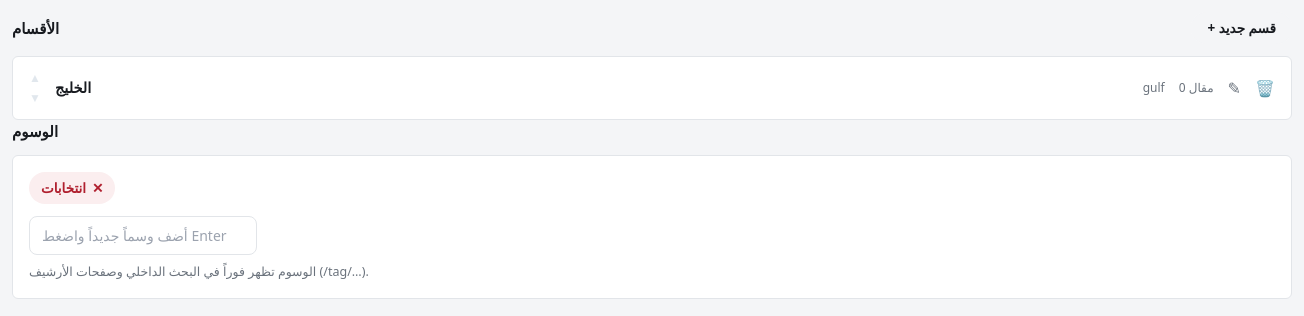
Test case: TaxonomyManager removeTag › removes the tag once confirmed and the server accepts the delete
Click the button named "حذف انتخابات" at (98, 188), box [92, 178, 103, 198]
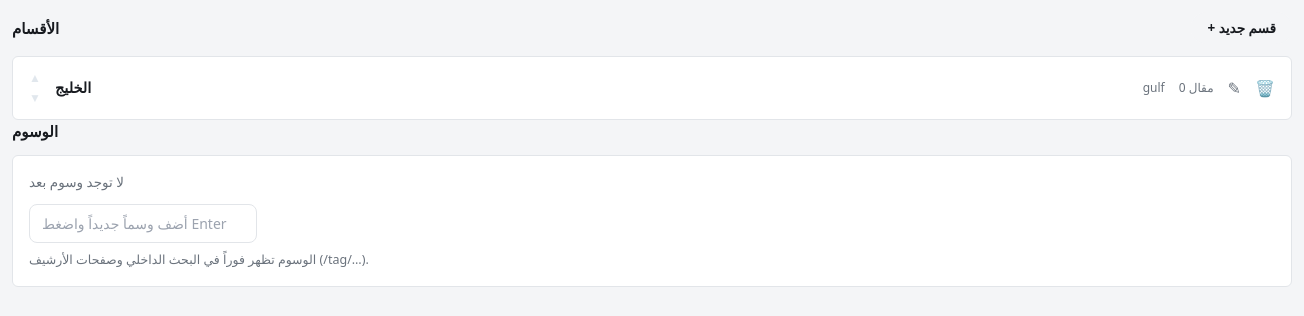
Expected: the button "انتخابات" is gone
